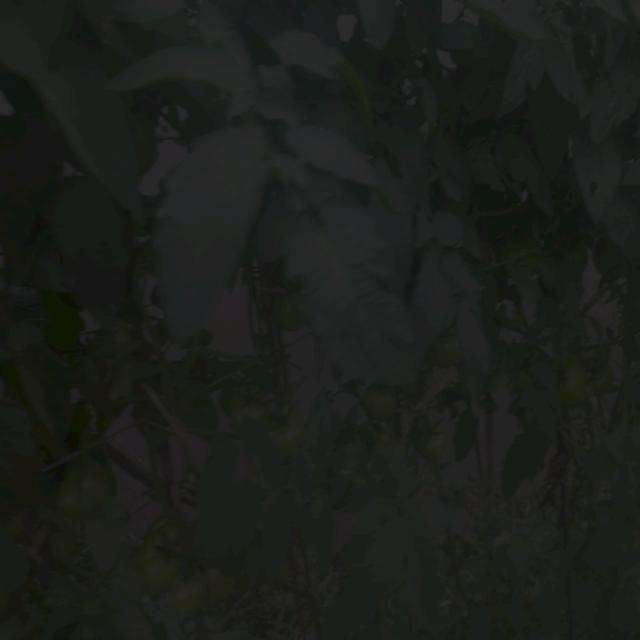tomato: (67, 462, 124, 518), (146, 515, 185, 591), (130, 114, 163, 171), (561, 359, 595, 410), (179, 578, 220, 616), (274, 414, 316, 449), (279, 296, 308, 344), (422, 420, 453, 463), (237, 380, 266, 424), (375, 387, 405, 425), (439, 331, 464, 376), (502, 236, 540, 258)
